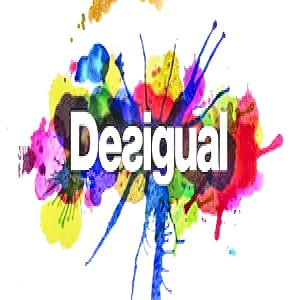desigual: (205, 51, 271, 154)
